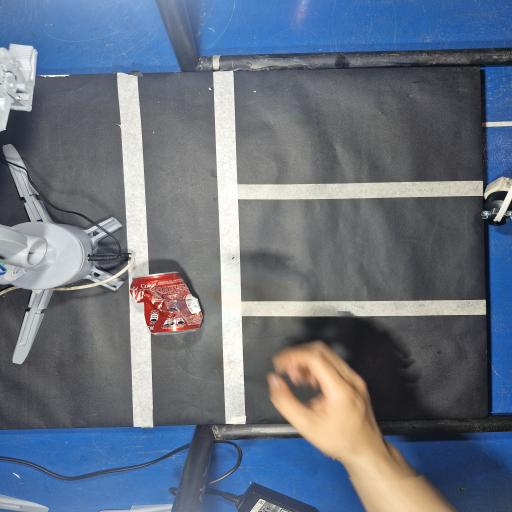lata_defectuoso: (130, 273, 202, 335)
